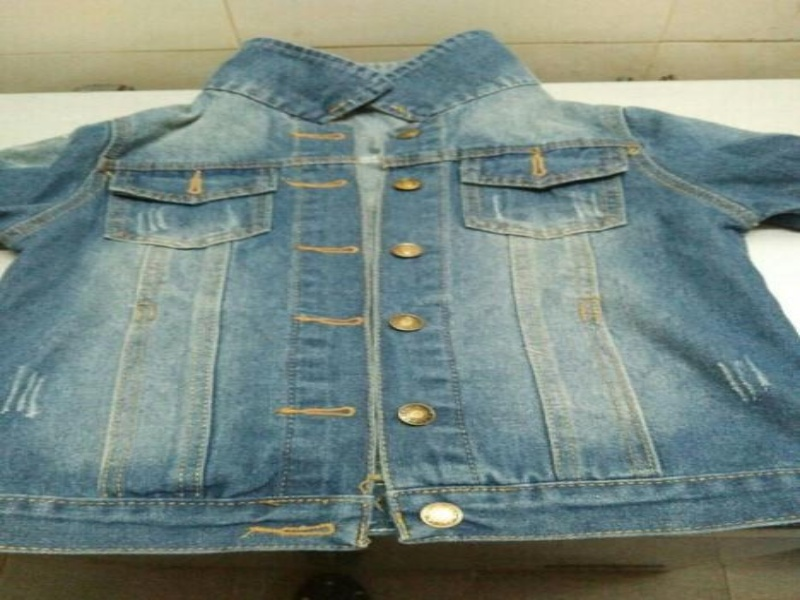long_sleeved_outwear: (0, 28, 797, 561)
